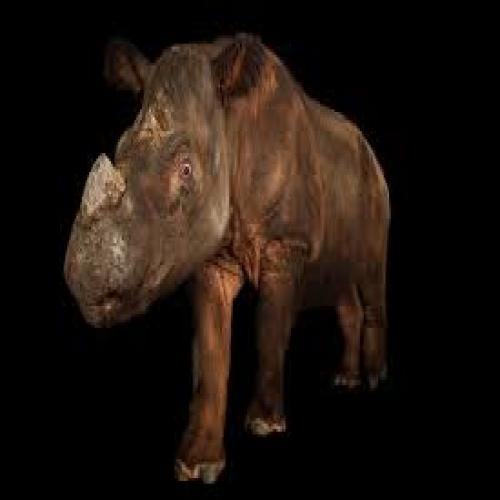rhino-endangered: (63, 32, 388, 485)
